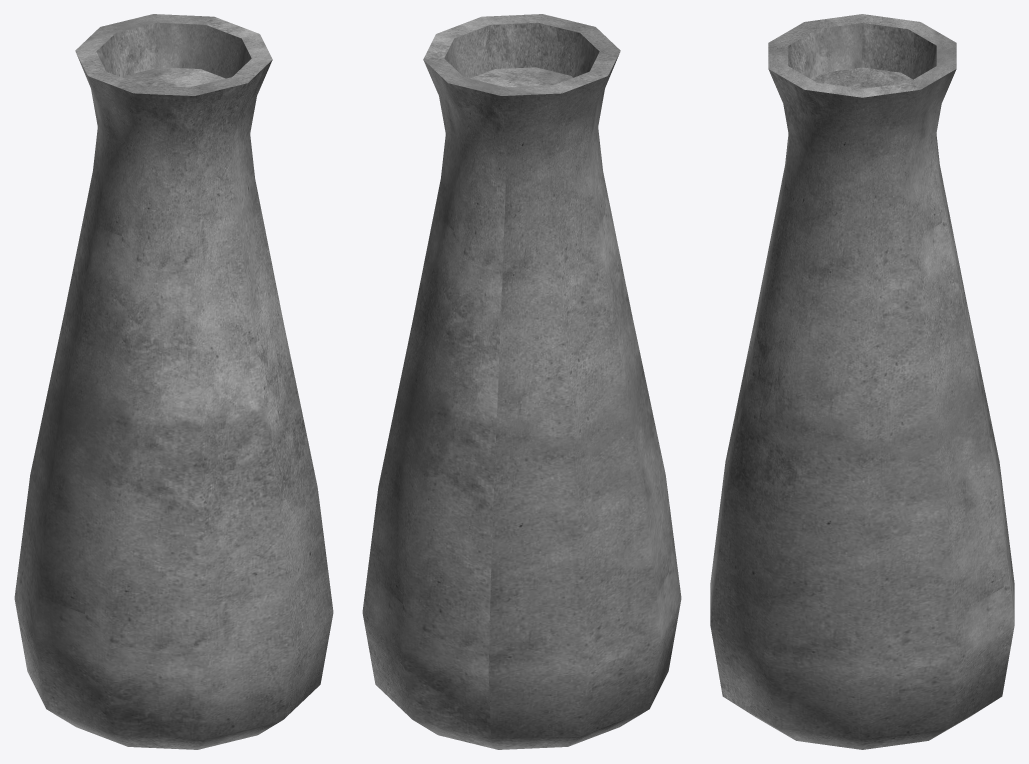
The model's file is PROPS_pottery_01.FBX.
3 renders of one model, left to right at view 1: azimuth 30°, elevation 25°; view 2: azimuth 150°, elevation 25°; view 3: azimuth 270°, elevation 25°, orthographic.
Parts seen in each view (by area): view 1: PROPS_pottery_01; view 2: PROPS_pottery_01; view 3: PROPS_pottery_01.
Boxes of the visible parts, x1,y1,x2,y2 form: PROPS_pottery_01: (14,14,333,749); PROPS_pottery_01: (362,14,681,749); PROPS_pottery_01: (710,14,1014,749).
Size of the model in its own units: 20.93 by 47.69 by 19.91.
Materials: 1 (1 with a texture image).
